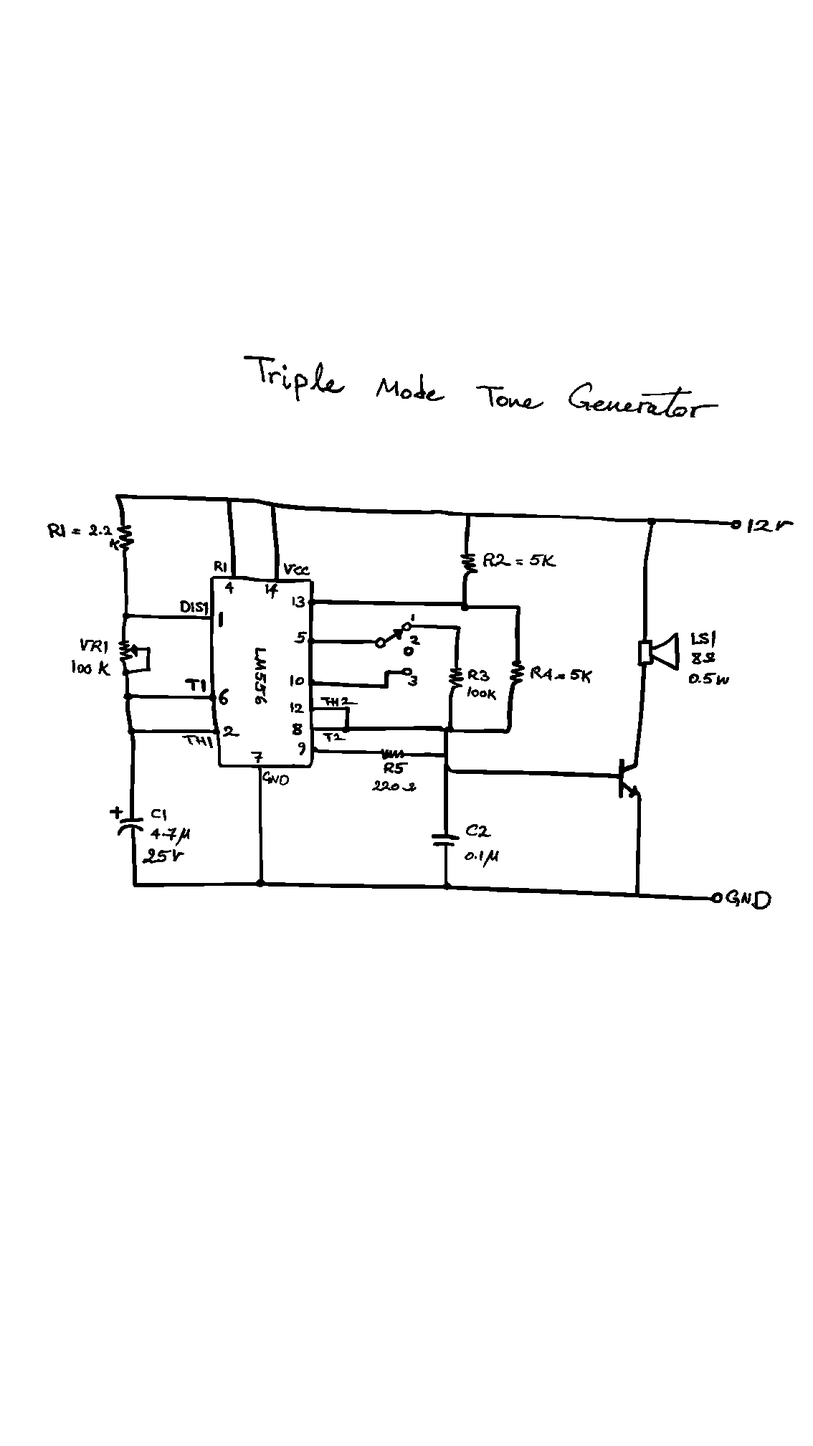capacitor.polarized: (108, 805, 146, 837)
capacitor.unpolarized: (430, 832, 462, 851)
integrated_circuit: (209, 574, 318, 770)
junction: (123, 691, 140, 701), (127, 727, 141, 737), (460, 600, 471, 612), (444, 724, 456, 734), (443, 765, 456, 774), (121, 611, 132, 621), (442, 882, 454, 891), (255, 878, 267, 887), (647, 517, 658, 526), (122, 668, 133, 676), (634, 889, 642, 899), (341, 725, 351, 733), (455, 623, 464, 631), (225, 496, 234, 504), (503, 727, 513, 734), (131, 880, 139, 888), (269, 501, 277, 509), (144, 666, 153, 673), (115, 493, 123, 500), (343, 705, 351, 712), (514, 604, 523, 610), (465, 512, 472, 519), (146, 645, 153, 652), (384, 669, 391, 676), (383, 682, 390, 689), (442, 752, 450, 758)
resistor: (117, 520, 136, 554), (508, 660, 526, 687), (460, 552, 478, 577), (448, 666, 464, 691), (379, 747, 406, 760)
resistor.adjustable: (118, 639, 139, 663)
speaker: (637, 630, 683, 674)
switch: (373, 620, 415, 656)
terminal: (729, 519, 743, 531), (710, 892, 723, 904), (399, 666, 414, 676)
text: (241, 351, 721, 422), (47, 521, 120, 552), (528, 664, 594, 686), (482, 551, 558, 567), (726, 888, 774, 911), (253, 646, 269, 706), (150, 826, 191, 846), (70, 658, 113, 677), (746, 517, 794, 534), (464, 849, 501, 870), (141, 847, 186, 864), (370, 779, 417, 793), (688, 671, 731, 686), (465, 686, 499, 703), (80, 637, 110, 656), (690, 630, 718, 648), (178, 599, 209, 615), (182, 734, 214, 749), (262, 770, 291, 786), (464, 823, 493, 839), (282, 562, 312, 577), (320, 696, 358, 707), (381, 761, 410, 775), (466, 667, 491, 683), (690, 651, 716, 665), (184, 678, 208, 693), (287, 672, 307, 689), (264, 582, 280, 600), (212, 559, 229, 575), (149, 808, 168, 822), (322, 732, 346, 743), (290, 595, 307, 610), (218, 688, 232, 705), (222, 725, 240, 738), (293, 630, 308, 645), (249, 750, 265, 764), (289, 701, 306, 714), (224, 580, 237, 595), (407, 675, 420, 688), (297, 740, 307, 756), (292, 722, 304, 735), (217, 610, 225, 628), (409, 635, 422, 646), (409, 612, 417, 624)
transistor.bjt: (617, 756, 645, 799)
